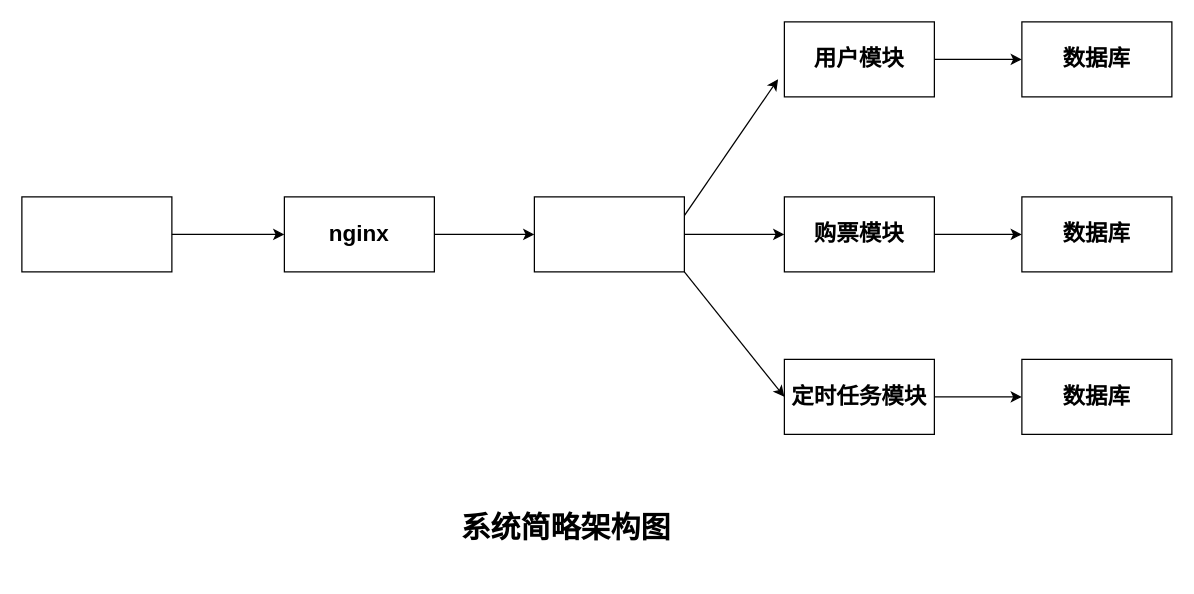
This 1194x594 diagram has some shape labels left out. Here are the shapes that lost their labels. From the top down, the centre of each, then its label:
At point 96,234: "客户端".
At point 608,234: "网关模块".
